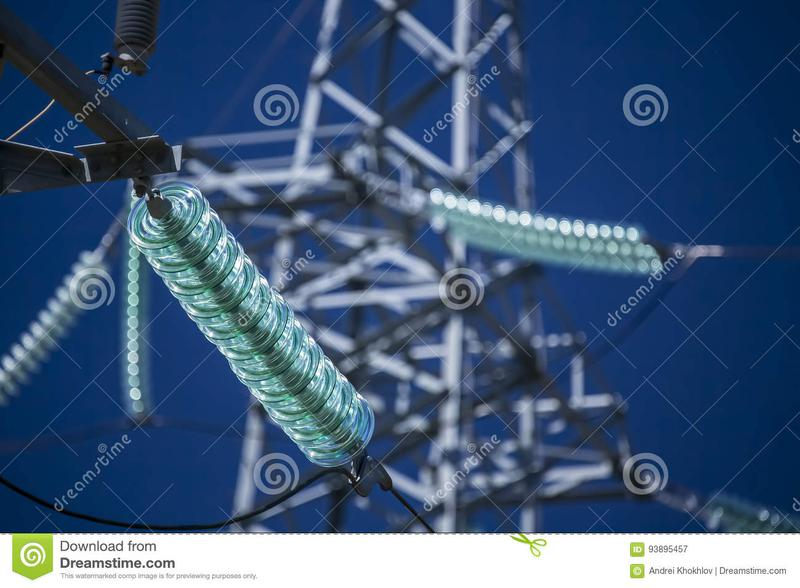isolator: (125, 177, 375, 470), (424, 185, 661, 275), (1, 249, 112, 409)
